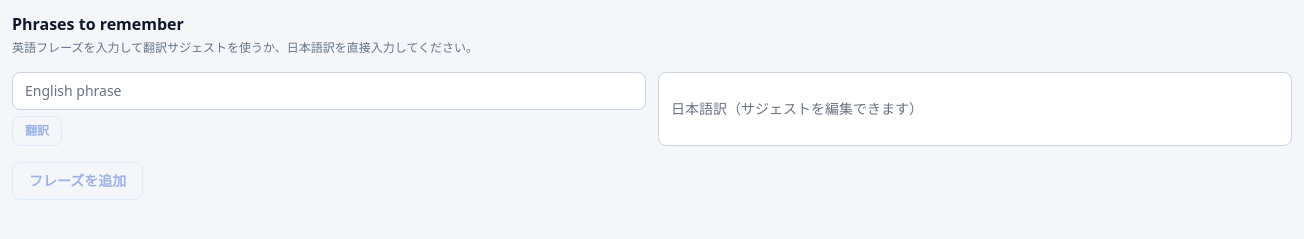
Test: PhraseEditor › clears a stale translate error once the user edits the English input again
Type "edge case" into the field named "追加する英語フレーズ" at (329, 91), box [12,72,646,110]
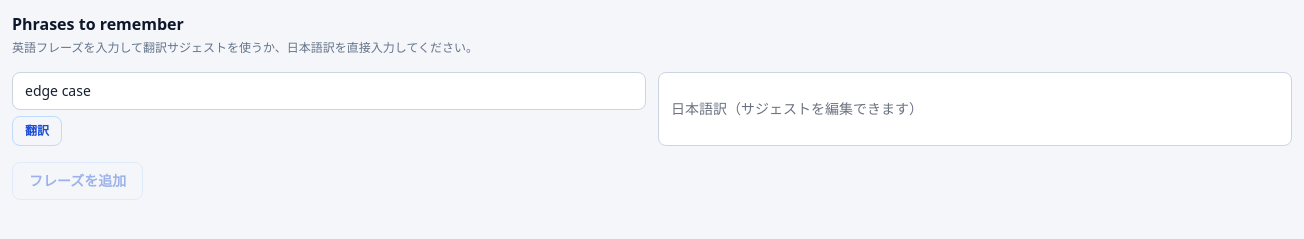
Click the button "翻訳" at (37, 131), box [12,116,62,146]
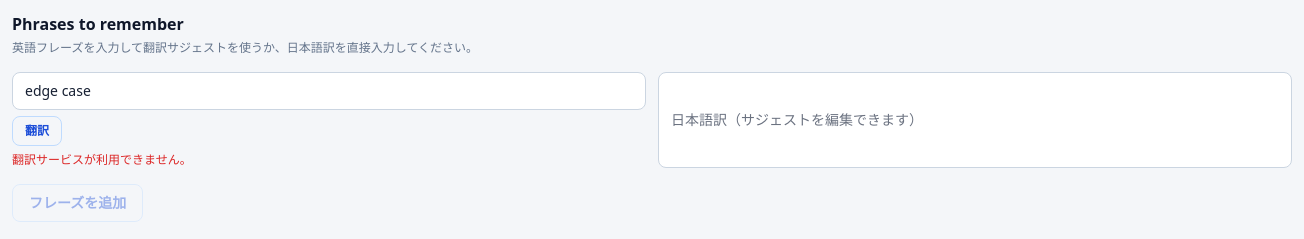
Now the text "翻訳サービスが利用できません。" is shown, box [12,151,192,168]
Replace the text in the field named "追加する英語フレーズ" with "edge case 2" at (329, 91), box [12,72,646,110]
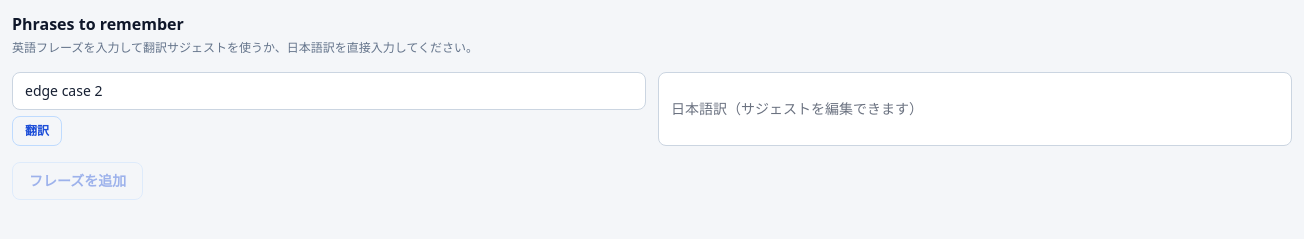
Now the text "翻訳サービスが利用できません。" is gone
